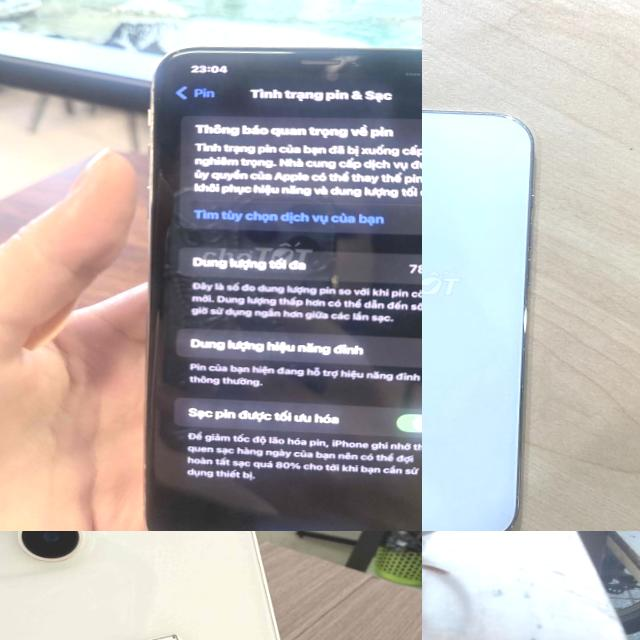gen_12_13: (422, 87, 579, 531)
gen_14: (0, 531, 354, 640)
gen_x_xs: (127, 32, 422, 531)
